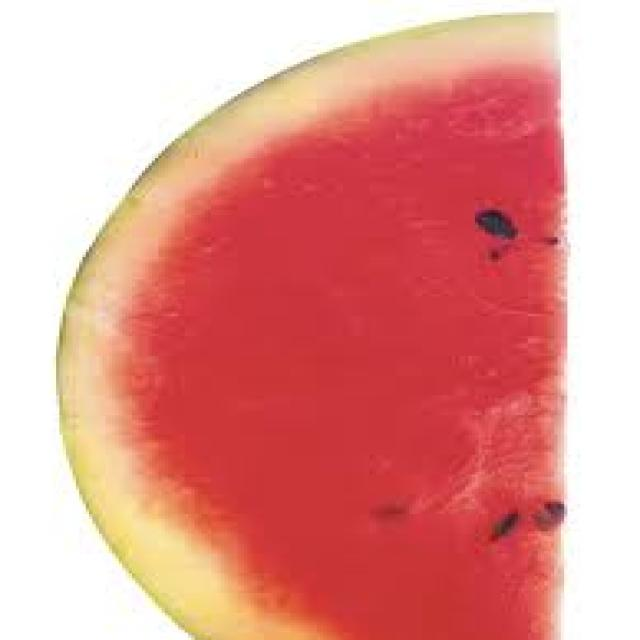watermelon: (53, 10, 567, 637)
